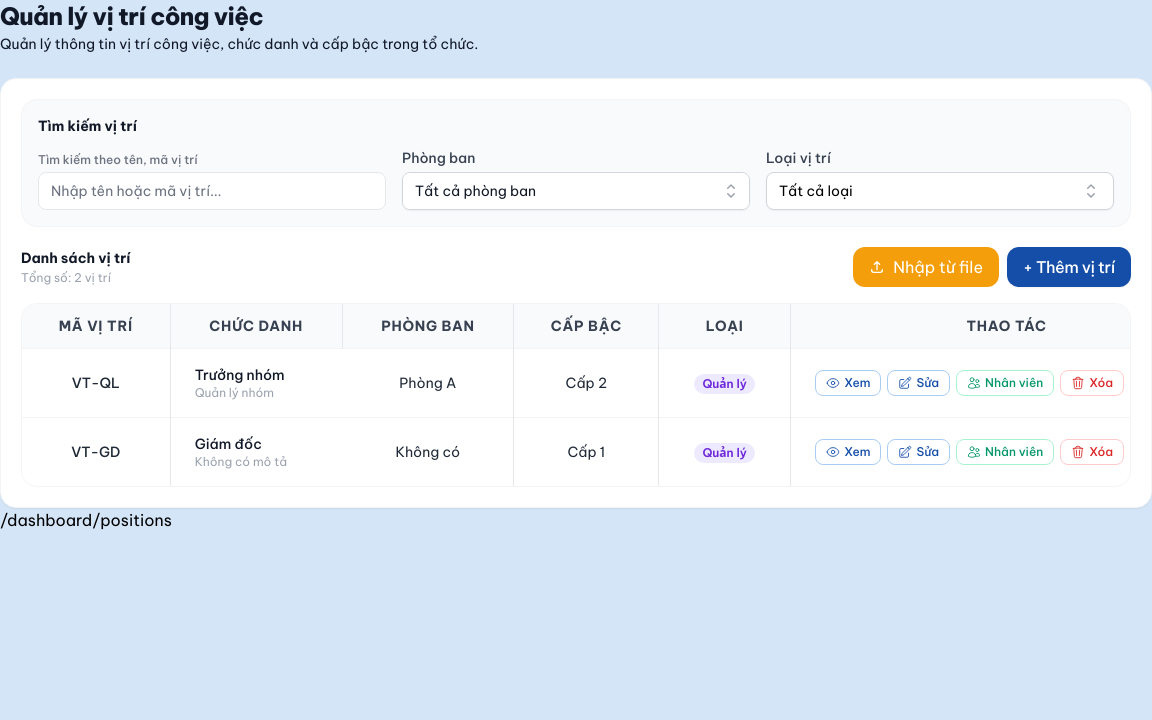
Scenario: PositionList — nút Xem › mở dialog chi tiết thay vì chuyển sang route /dashboard/positions/:id (không tồn tại)
Click the button "Xem" in the row of "VT-QL".
click(848, 383)  # box [815,370,881,396]
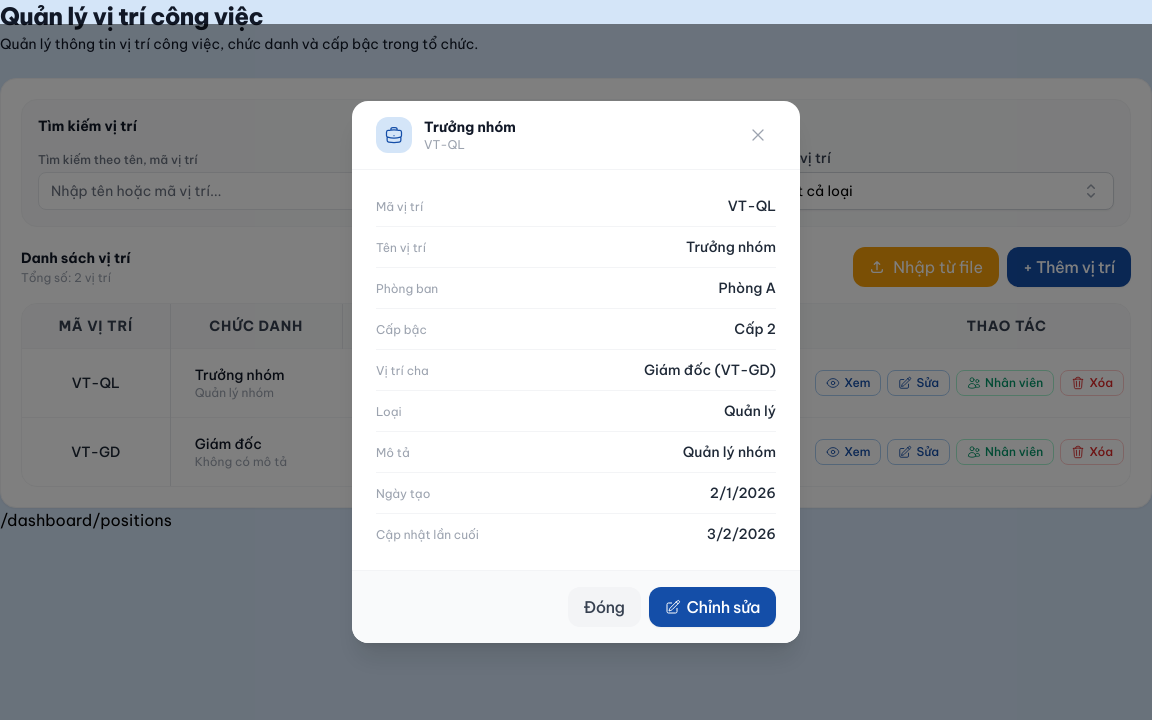
Check: the text "Cấp 2" is shown, box [734,319,776,339]
Check: the text "Giám đốc (VT-GD)" is shown, box [644,360,776,380]
Check: the text "Phòng A" is shown, box [719,278,776,298]
Click the button "Chỉnh sửa".
click(712, 607)  # box [649,587,776,627]
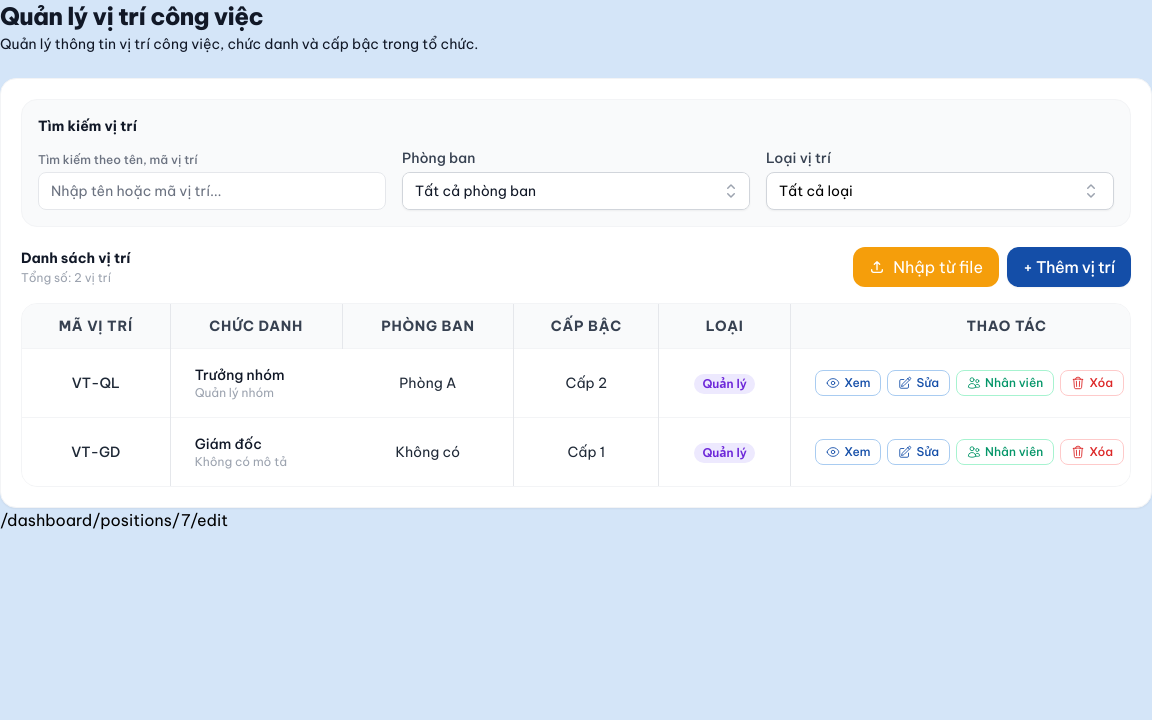
Check: the text with test id "path" reads "/dashboard/positions/7/edit", box [0,510,228,530]
